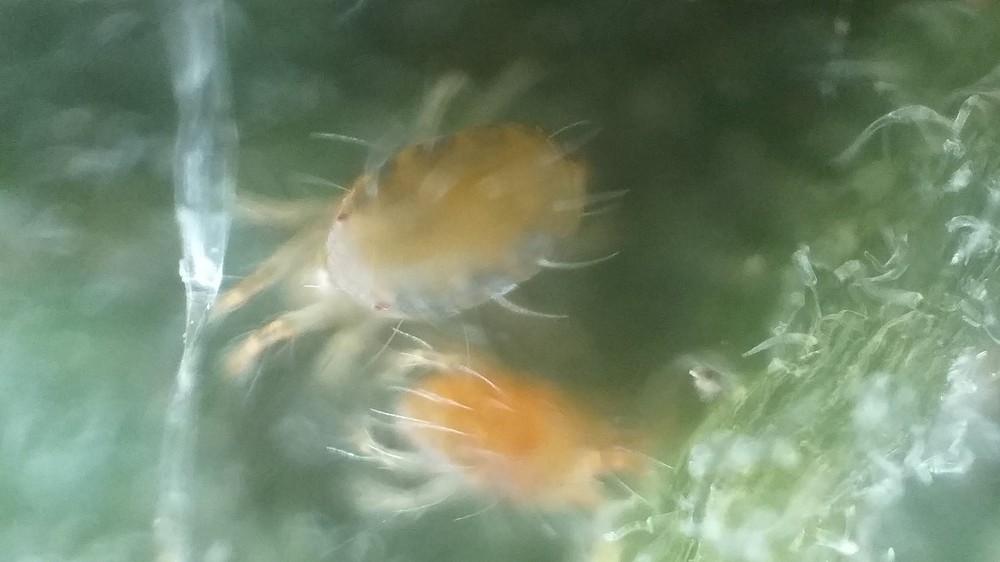Aracnido Rojo: (190, 63, 639, 367), (375, 338, 673, 541)
